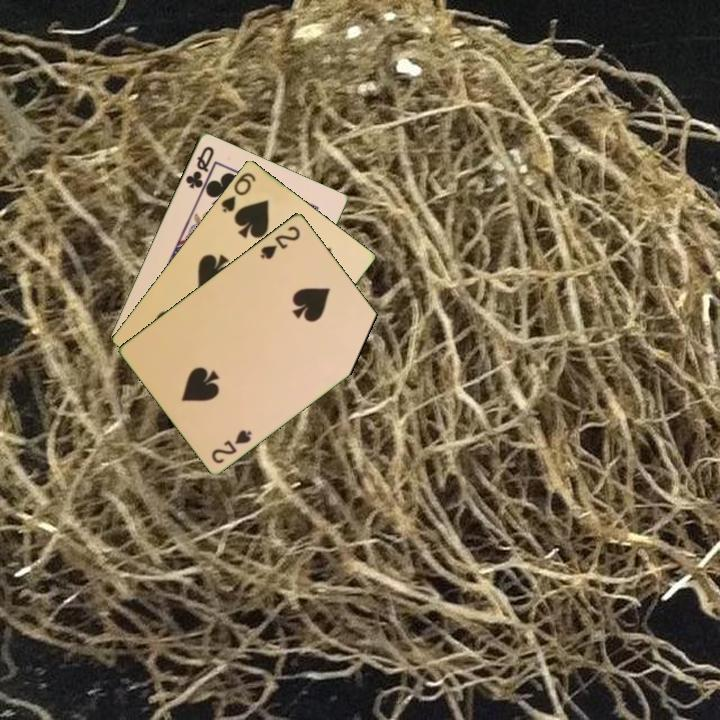2s: (208, 426, 255, 466), (257, 222, 303, 262)
6s: (217, 168, 259, 215)
Qc: (182, 142, 217, 191)
